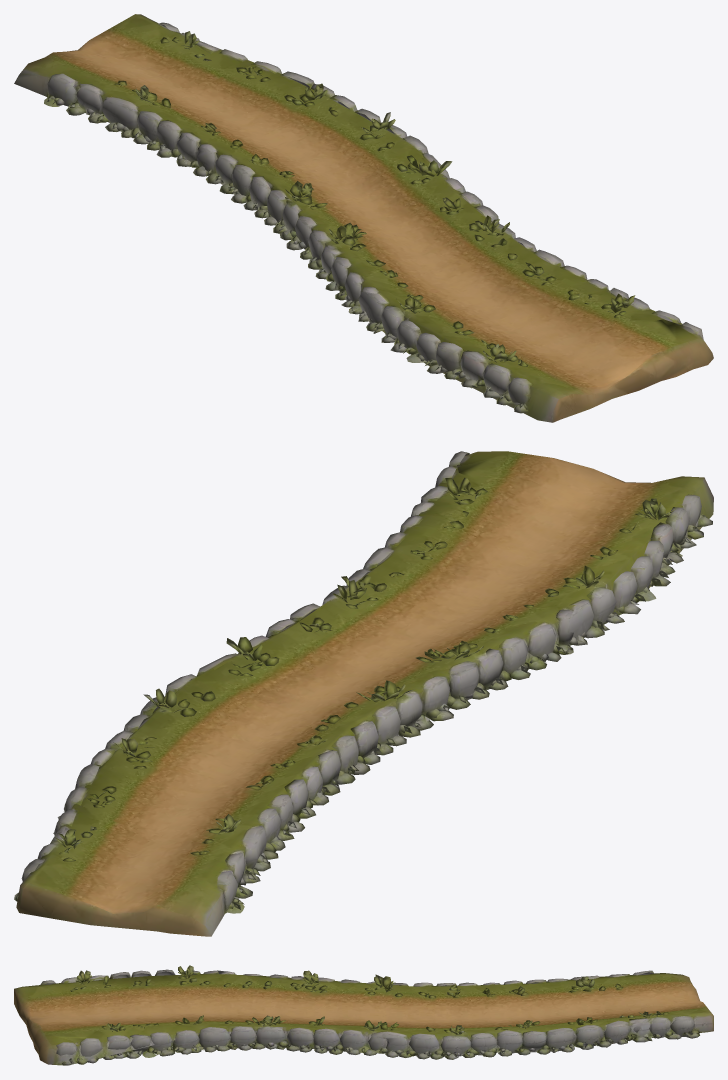
Rendered from mekong-path.glb.
The picture shows the model from 3 angles, top to bottom: view 1: azimuth 30°, elevation 25°; view 2: azimuth 150°, elevation 25°; view 3: azimuth 270°, elevation 25°; orthographic projection. The views are drawn at different scales.
Bounding box in the file's own units: 0.2862 × 0.0449 × 1.
1 material, 1 textured.
